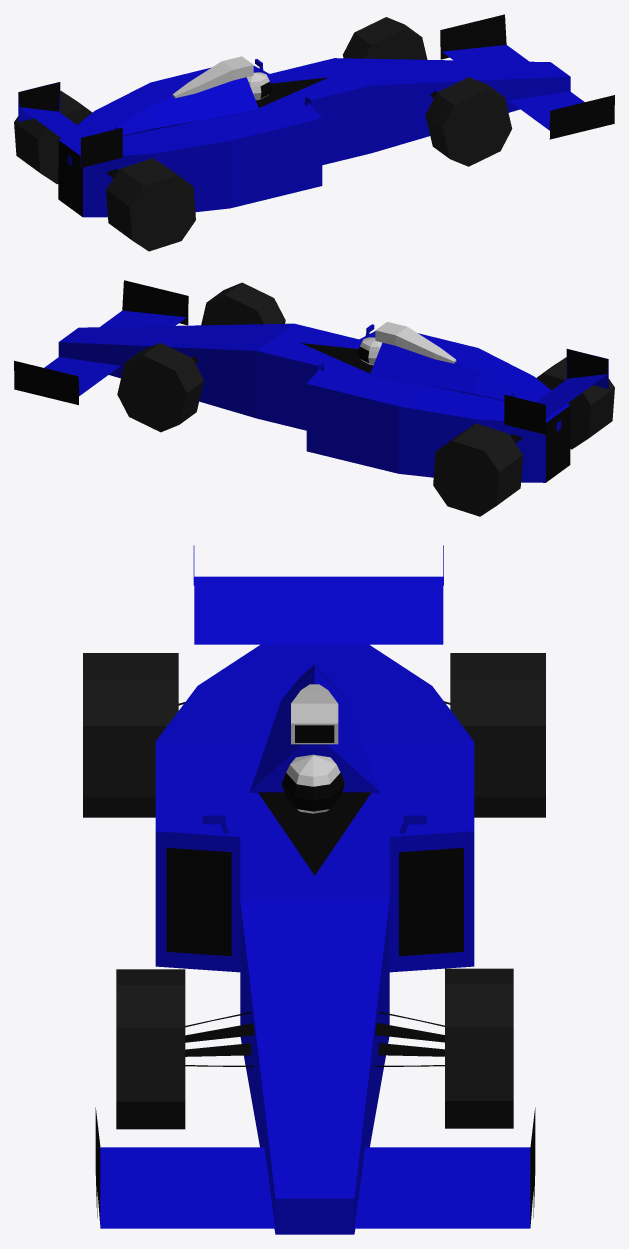
The model's file is f1_car2.obj.
The picture shows the model from 3 angles, top to bottom: view 1: azimuth 30°, elevation 25°; view 2: azimuth 150°, elevation 25°; view 3: azimuth 270°, elevation 25°; orthographic projection. The views are drawn at different scales.
Visible parts, largest first — view 1: f1_Red, f1_Black, Bone.005, Bone.001, Bone.002, Bone.006, f1_White, f1_Tires; view 2: f1_Red, f1_Black, Bone.002, Bone.006, Bone.001, Bone.005, f1_White; view 3: f1_Red, f1_Black, Bone.001, Bone.002, Bone.005, Bone.006, f1_White.
Boxes of the visible parts, <box> form: f1_Red: <box>18,45,584,217</box>; f1_Black: <box>18,14,614,216</box>; Bone.005: <box>425,77,512,166</box>; Bone.001: <box>106,158,195,251</box>; Bone.002: <box>14,91,92,183</box>; Bone.006: <box>343,17,427,59</box>; f1_White: <box>172,56,269,100</box>; f1_Tires: <box>144,186,193,240</box>; f1_Red: <box>44,310,608,482</box>; f1_Black: <box>14,280,608,482</box>; Bone.002: <box>433,423,522,516</box>; Bone.006: <box>117,343,203,432</box>; Bone.001: <box>536,357,614,449</box>; Bone.005: <box>201,282,285,325</box>; f1_White: <box>360,322,456,365</box>; f1_Red: <box>100,545,530,1234</box>; f1_Black: <box>95,701,535,1227</box>; Bone.001: <box>83,653,178,817</box>; Bone.002: <box>450,653,545,817</box>; Bone.005: <box>116,969,185,1129</box>; Bone.006: <box>445,968,513,1128</box>; f1_White: <box>286,684,340,813</box>.
Size of the model in its own units: 15.76 by 3.3 by 6.2.
